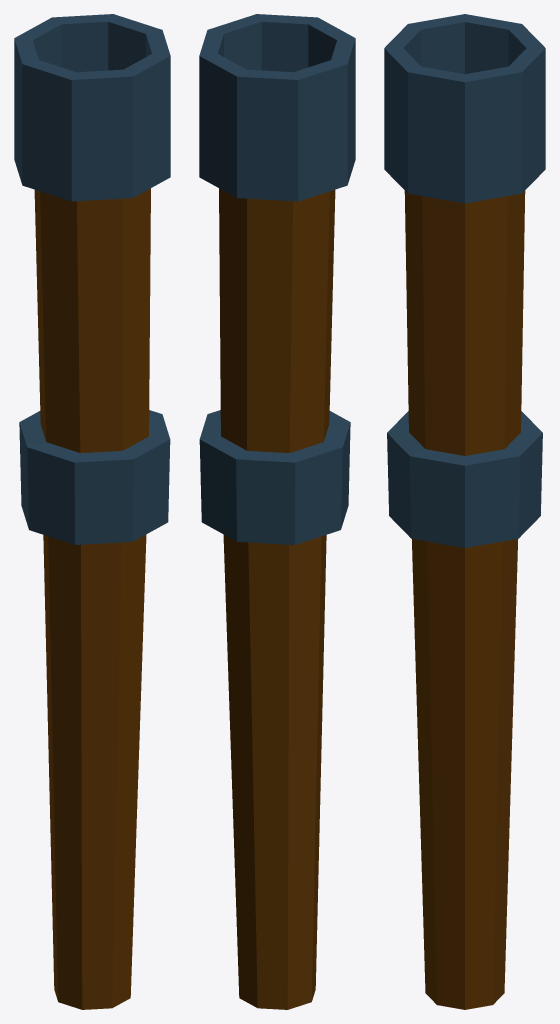
File: Torch.fbx
The picture shows the model from 3 angles, left to right: view 1: azimuth 30°, elevation 25°; view 2: azimuth 150°, elevation 25°; view 3: azimuth 270°, elevation 25°; orthographic projection.
Visible parts, largest first — view 1: Torch; view 2: Torch; view 3: Torch.
Part boxes in pixels (bbox=[...]): Torch: bbox=[14, 14, 170, 1009]; Torch: bbox=[199, 14, 355, 1009]; Torch: bbox=[384, 14, 545, 1009].
Size of the model in its own units: 13.33 by 86.04 by 13.33.
